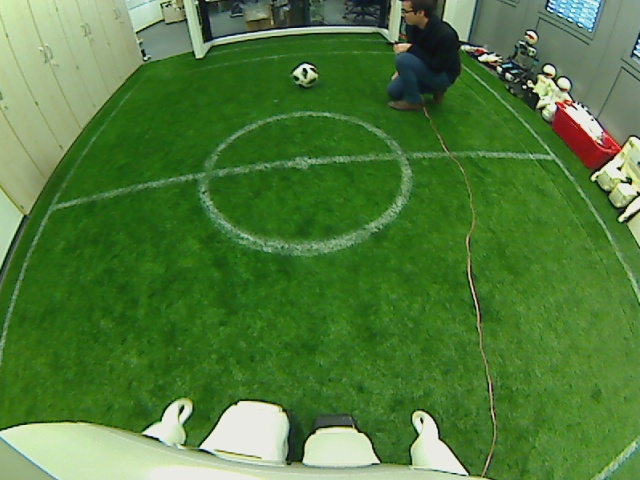ball: (291, 62, 318, 88)
